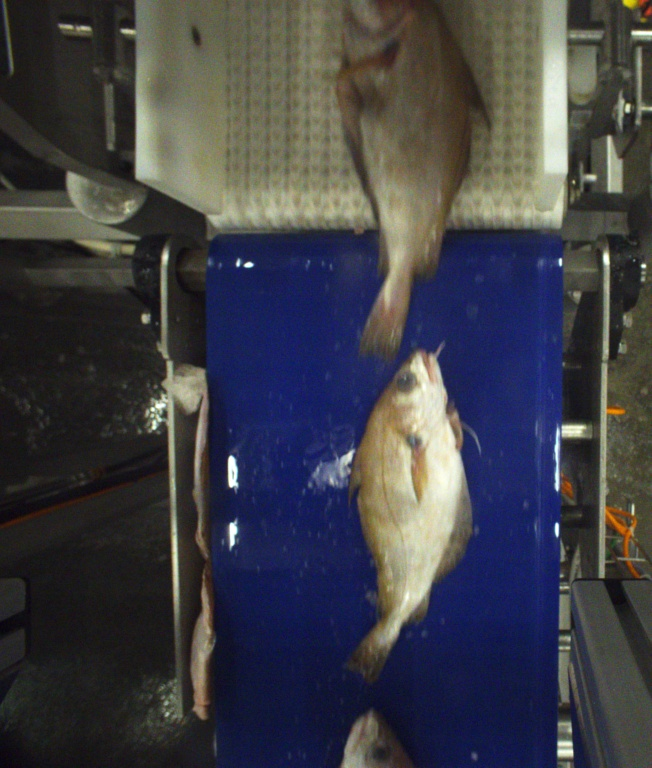BIB: (350, 345, 474, 679)
